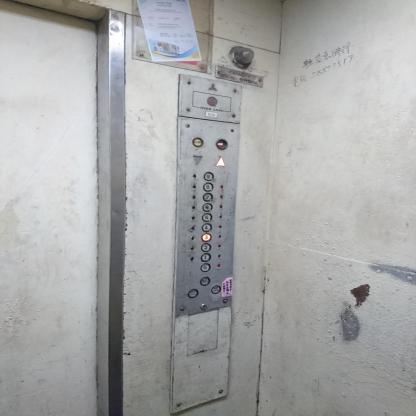1: (200, 252, 211, 262)
2: (200, 243, 212, 252)
3: (201, 232, 212, 242)
4: (201, 223, 213, 232)
5: (201, 212, 213, 222)
6: (202, 202, 213, 212)
7: (202, 192, 213, 202)
8: (202, 182, 214, 192)
9: (203, 171, 214, 181)
G: (200, 262, 211, 272)
text: (192, 136, 204, 148), (199, 276, 211, 286), (187, 288, 199, 298), (210, 284, 222, 294)
unknown: (216, 138, 227, 150)
